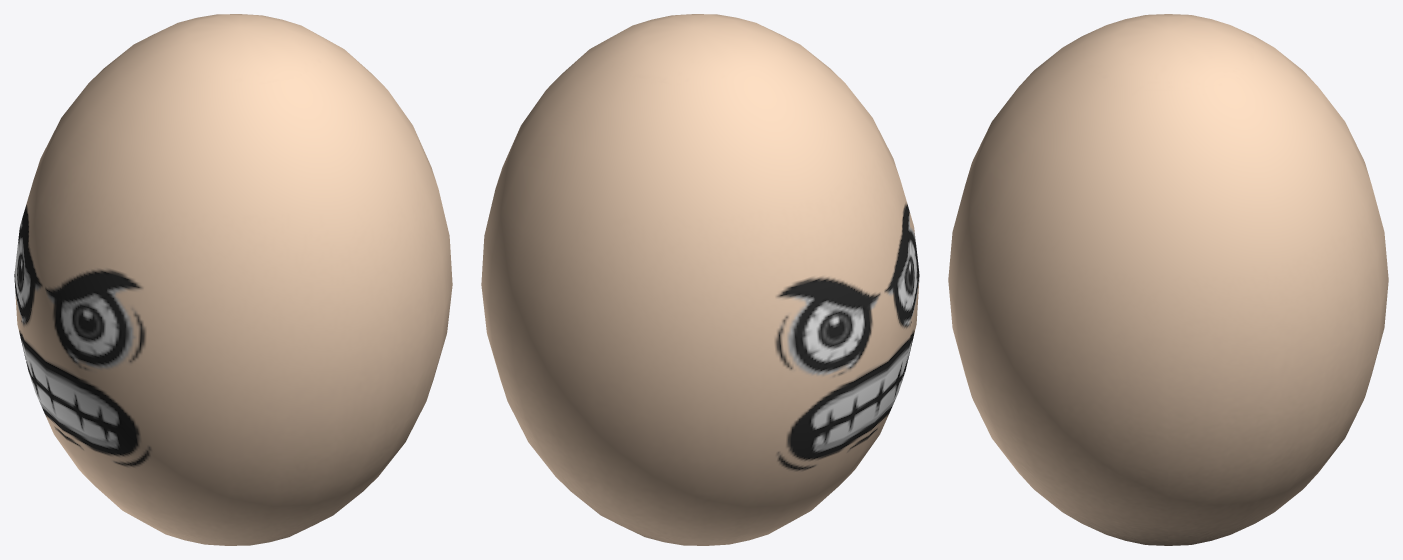
The model's file is Boss.fbx.
The picture shows the model from 3 angles, left to right: view 1: azimuth 30°, elevation 25°; view 2: azimuth 150°, elevation 25°; view 3: azimuth 270°, elevation 25°; orthographic projection.
Visible parts, largest first — view 1: Character_Head; view 2: Character_Head; view 3: Character_Head.
Part boxes in pixels (x1=…): Character_Head: x1=14, y1=14, x2=452, y2=545; Character_Head: x1=481, y1=14, x2=919, y2=545; Character_Head: x1=948, y1=14, x2=1388, y2=545.
Bounding box in the file's own units: 5.44 × 6.88 × 5.44.
